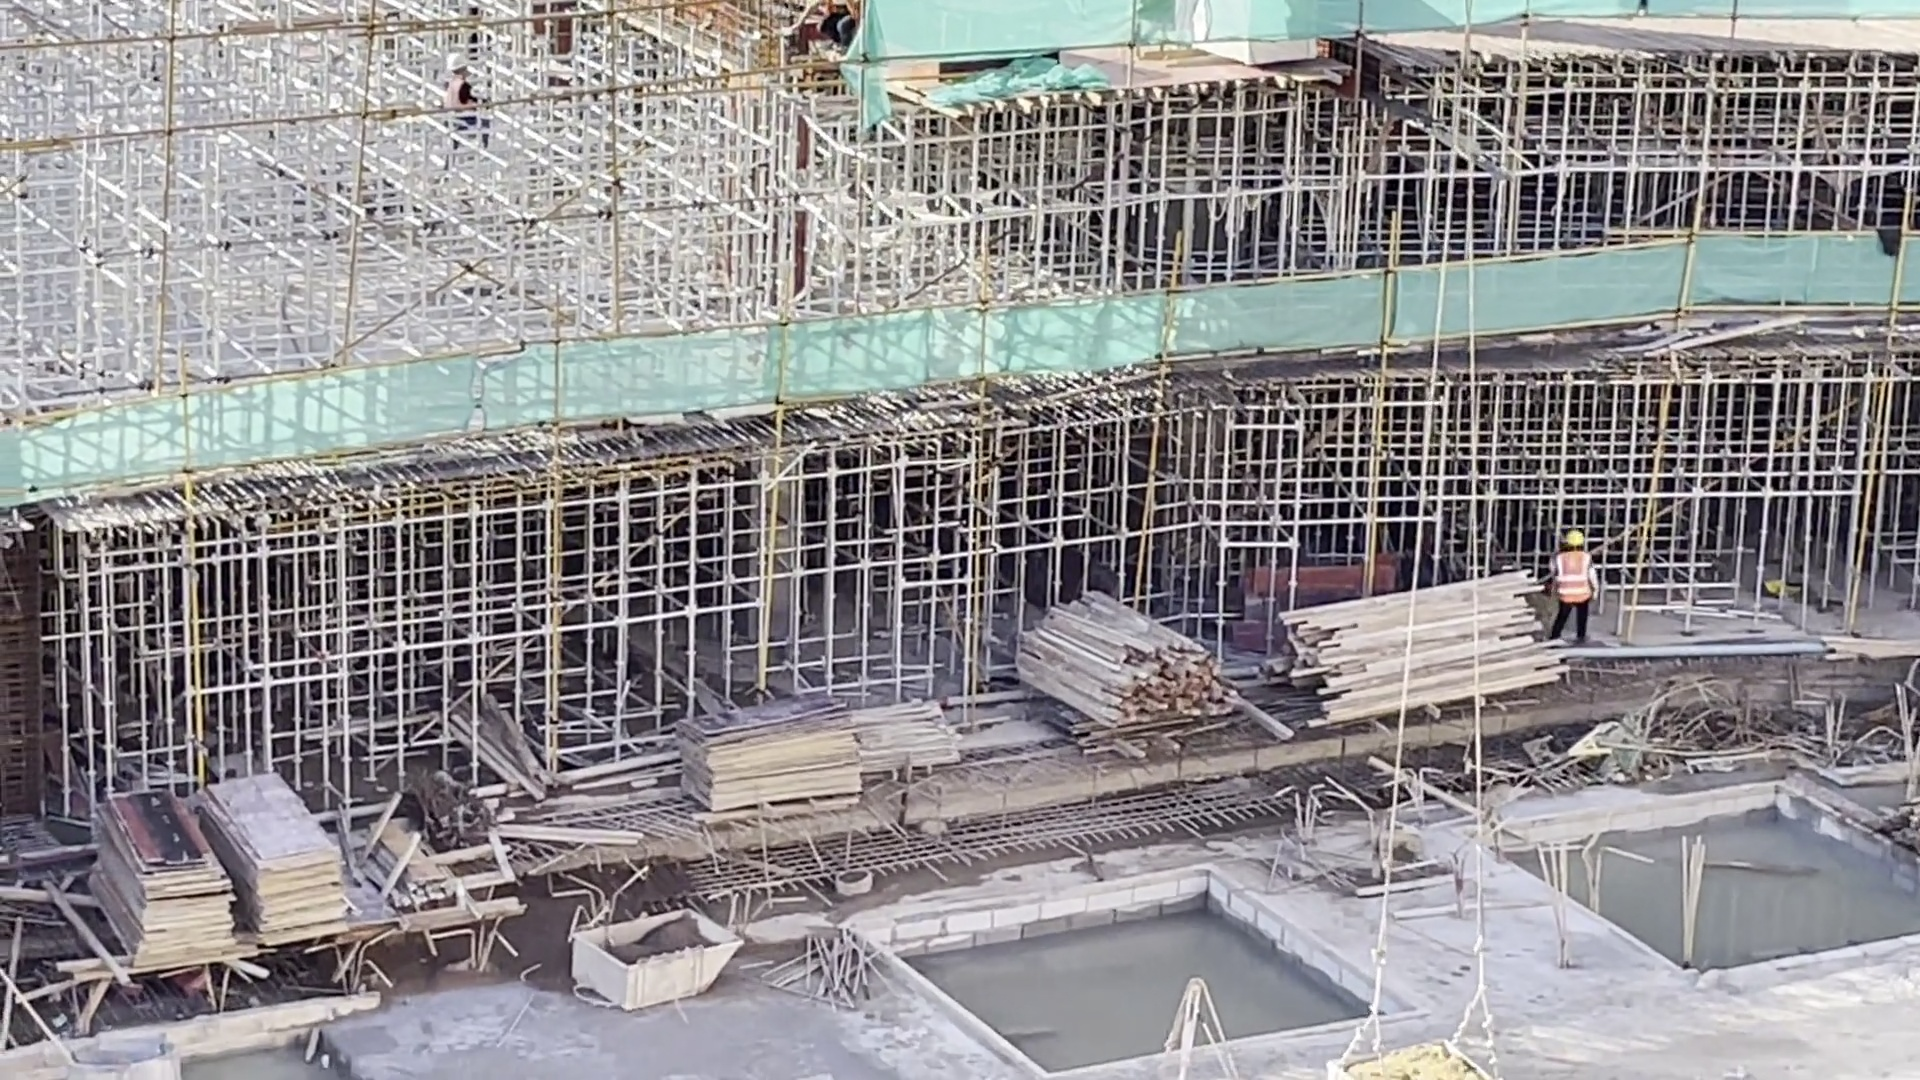board: (200, 767, 355, 950), (85, 789, 240, 967), (671, 690, 867, 816)
helmet: (446, 55, 470, 74), (1564, 529, 1584, 547)
hopper: (567, 902, 745, 1009), (62, 1034, 193, 1079)
person: (1548, 528, 1604, 645), (439, 54, 482, 109)
vest: (1549, 550, 1595, 610)
wood: (1271, 594, 1571, 728), (1011, 587, 1247, 726)
